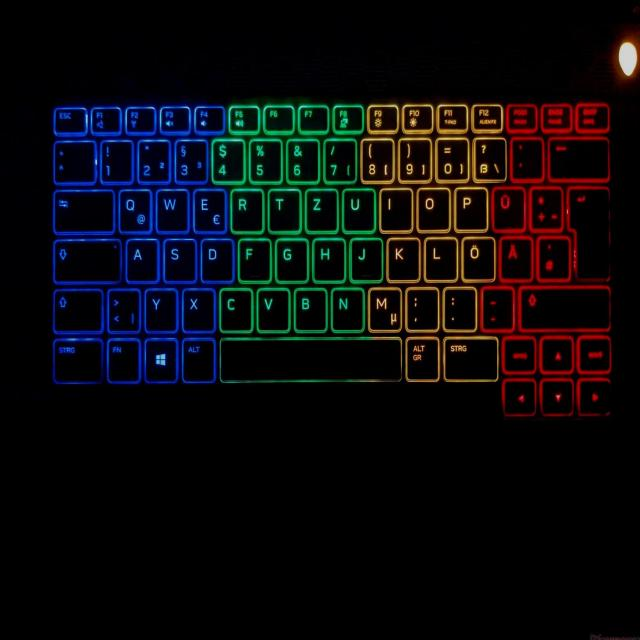0: (434, 136, 469, 182)
1: (100, 139, 133, 184)
2: (136, 138, 170, 184)
3: (173, 138, 207, 183)
4: (210, 138, 244, 183)
5: (248, 138, 282, 183)
6: (285, 138, 319, 183)
7: (322, 137, 356, 183)
8: (359, 136, 393, 183)
9: (396, 136, 431, 182)
a: (124, 237, 158, 282)
accent: (509, 135, 543, 181)
ae: (499, 236, 533, 280)
alt-left: (181, 336, 214, 382)
altgr-right: (404, 335, 439, 381)
b: (293, 286, 326, 331)
c: (218, 287, 252, 332)
caret: (52, 140, 95, 184)
comma: (404, 285, 438, 331)
d: (200, 237, 233, 282)
del: (547, 135, 608, 180)
e: (192, 188, 225, 234)
enter: (566, 185, 610, 282)
f: (237, 237, 270, 281)
g: (274, 237, 307, 282)
h: (311, 237, 344, 282)
hash: (536, 235, 570, 280)
i: (378, 186, 412, 231)
j: (348, 236, 382, 281)
k: (385, 235, 419, 281)
keyboard: (45, 97, 613, 423)
l: (423, 235, 456, 281)
less: (106, 288, 140, 332)
m: (366, 285, 401, 331)
minus: (479, 285, 514, 330)
n: (330, 286, 363, 331)
o: (415, 186, 450, 231)
oe: (460, 235, 495, 281)
p: (453, 185, 487, 231)
plus: (529, 185, 563, 230)
point: (441, 284, 476, 330)
q: (117, 188, 151, 233)
r: (230, 188, 263, 233)
s: (162, 237, 195, 283)
shift-left: (51, 288, 102, 333)
shift-lock: (52, 238, 120, 283)
shift-right: (517, 285, 611, 329)
space: (218, 337, 402, 381)
ss: (470, 136, 506, 183)
strg-left: (50, 339, 103, 383)
strg-right: (441, 335, 498, 380)
t: (267, 187, 300, 232)
tab: (52, 189, 114, 234)
u: (341, 187, 375, 232)
ue: (490, 185, 525, 231)
v: (256, 286, 288, 331)
w: (155, 188, 188, 233)
x: (181, 287, 214, 332)
y: (144, 288, 177, 332)
z: (304, 187, 337, 232)
